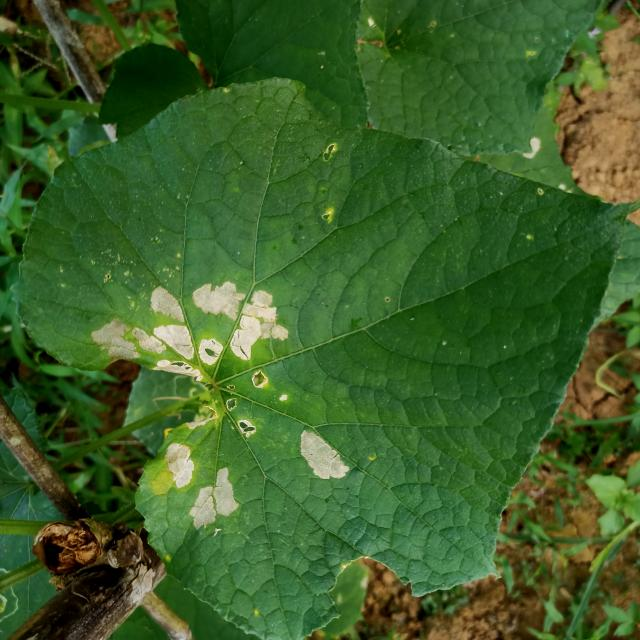disease_cucumber: (90, 282, 291, 388), (188, 466, 240, 533), (296, 428, 351, 482), (163, 442, 195, 489), (223, 397, 256, 439)
